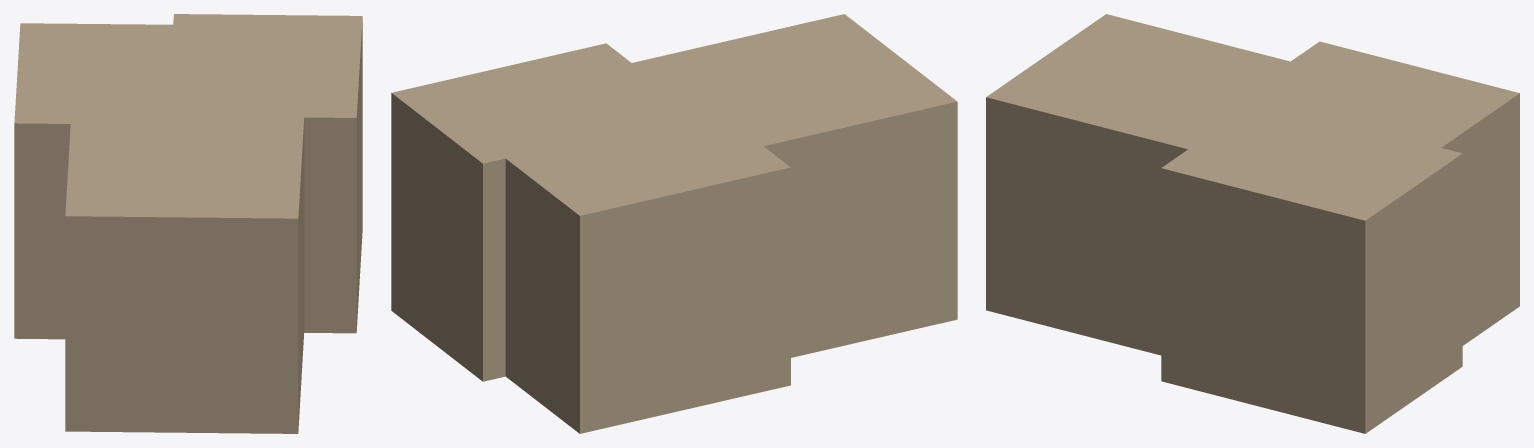
File: bld_99520189.dae
The picture shows the model from 3 angles, left to right: view 1: azimuth 30°, elevation 25°; view 2: azimuth 150°, elevation 25°; view 3: azimuth 270°, elevation 25°; orthographic projection. The views are drawn at different scales.
Visible parts, largest first — view 1: Carpenters Arms; view 2: Carpenters Arms; view 3: Carpenters Arms.
Boxes of the visible parts, box(x1,y1,x2,y2) form: Carpenters Arms: box(14, 14, 362, 433); Carpenters Arms: box(391, 14, 957, 433); Carpenters Arms: box(986, 14, 1519, 433).
Bounding box in the file's own units: 16.64 × 18.16 × 8.
